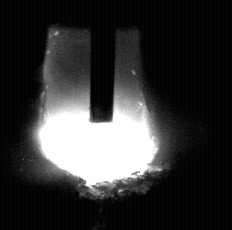arame: (91, 0, 115, 123)
poca: (40, 0, 156, 230)
